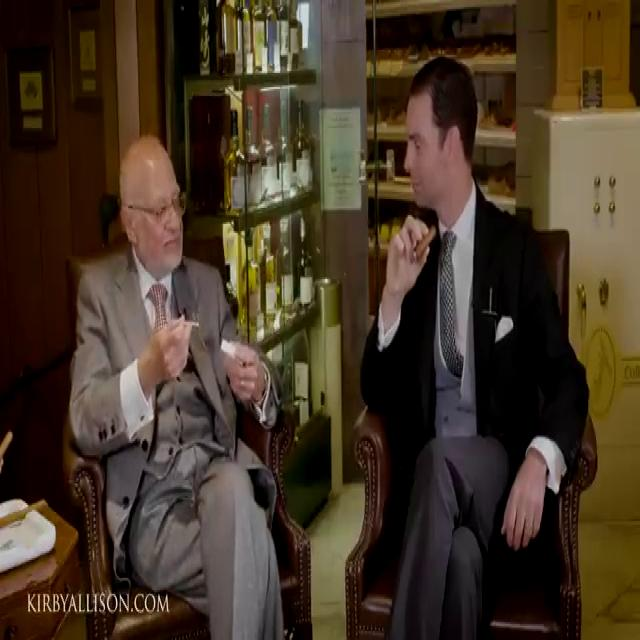Smooking: (410, 220, 445, 264)
